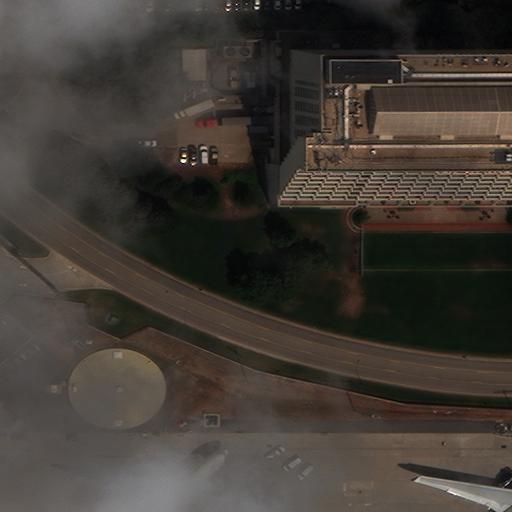Large Civil Transport: (420, 458, 511, 512)
